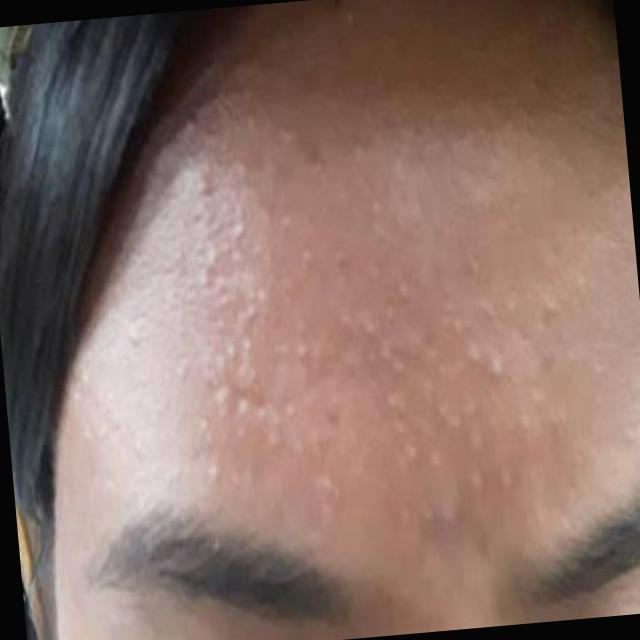fungal: (169, 143, 586, 526)
